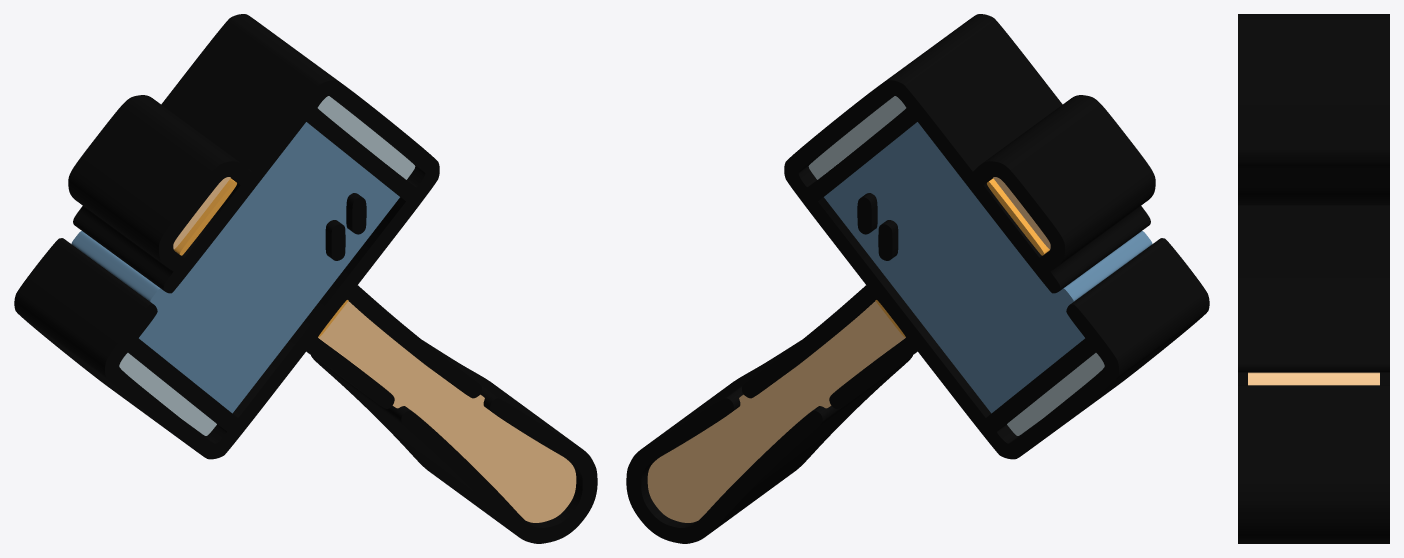
Rendered from SM_Hammer.fbx.
3 views of the same model, side by side, from view 1: azimuth 30°, elevation 25°; view 2: azimuth 150°, elevation 25°; view 3: azimuth 270°, elevation 25° (orthographic). The views are drawn at different scales.
Visible parts, largest first — view 1: Hammer; view 2: Hammer; view 3: Hammer.
Boxes of the visible parts, left/top/right/bottom form: Hammer: left=14, top=14, right=597, bottom=543; Hammer: left=626, top=14, right=1209, bottom=543; Hammer: left=1238, top=14, right=1389, bottom=543.
Size of the model in its own units: 13.1 by 41.12 by 41.11.
